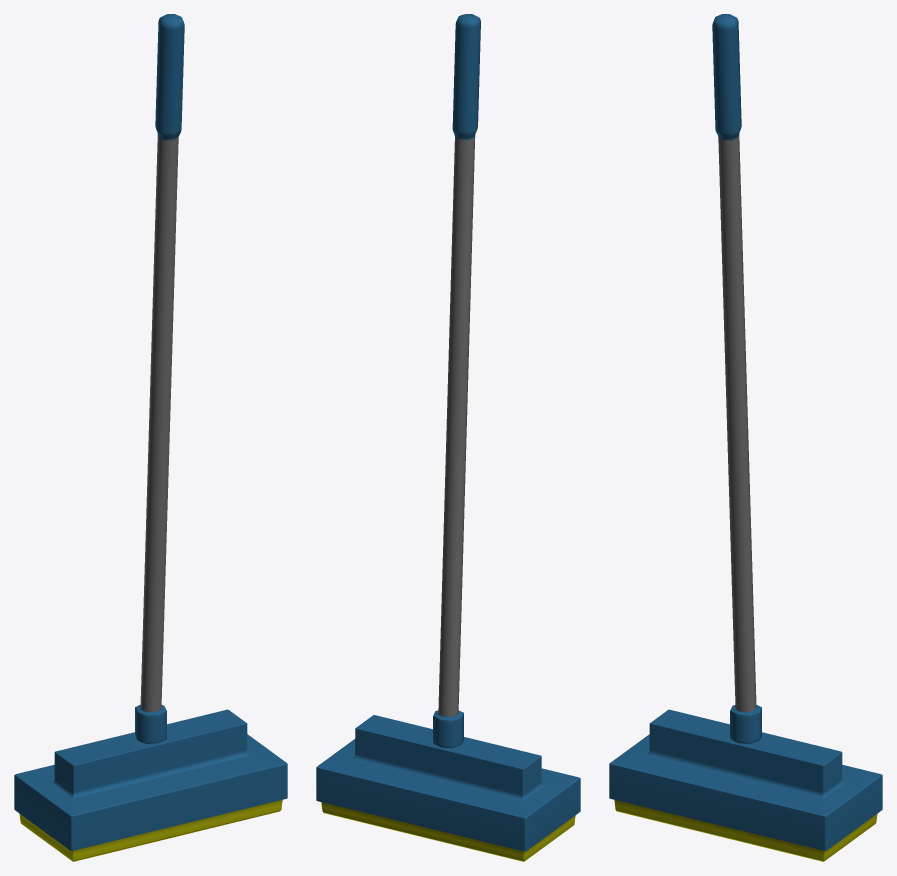
File: Elements_Mop.fbx
3 renders of one model, left to right at view 1: azimuth 30°, elevation 25°; view 2: azimuth 150°, elevation 25°; view 3: azimuth 330°, elevation 25°, orthographic. The views are drawn at different scales.
Visible parts, largest first — view 1: Bottom, Handle; view 2: Bottom, Handle; view 3: Bottom, Handle.
Boxes of the visible parts, x1,y1,x2,y2 form: Bottom: [14, 709, 287, 861]; Handle: [135, 14, 184, 743]; Bottom: [316, 715, 580, 861]; Handle: [433, 14, 480, 748]; Bottom: [609, 709, 882, 861]; Handle: [712, 14, 761, 744].
Size of the model in its own units: 2.7 by 9.72 by 1.24.
